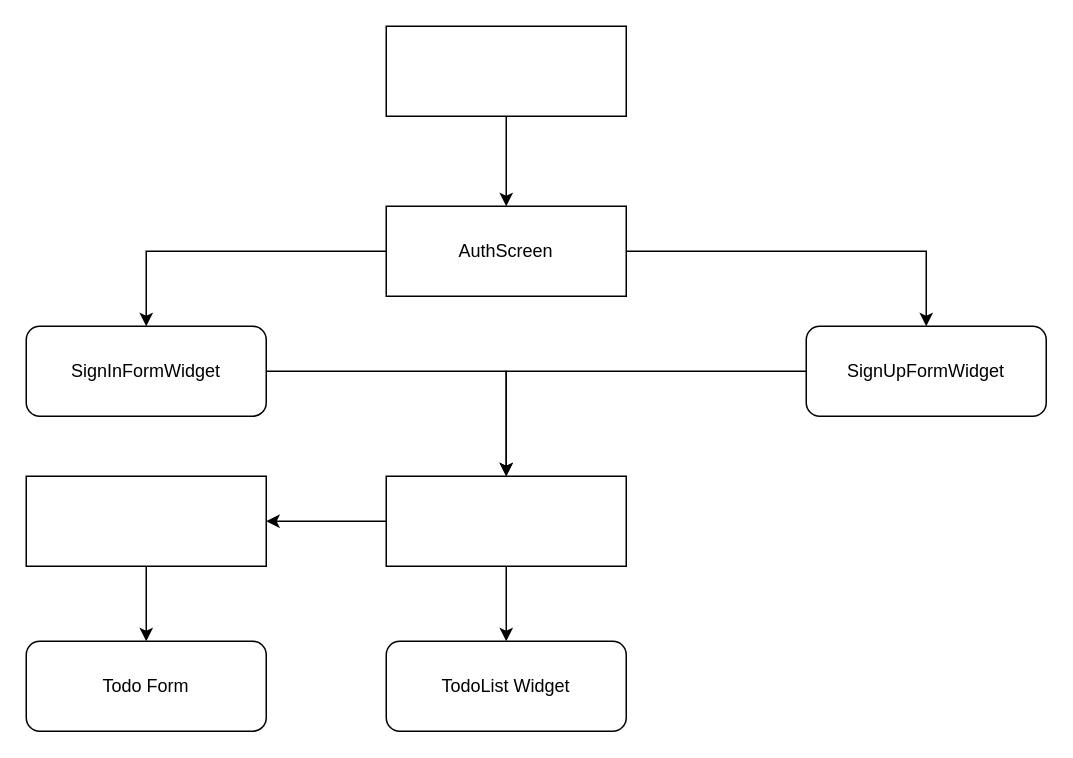
Image size: 1073x758. Some labels were removed from this diagram. Each missing label, with the centre of its shape:
HomeScreen: the point at 505,520
SplashScreen: the point at 505,70
TodoDetailScreen: the point at 145,520
